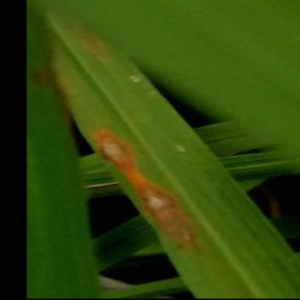Brown_Spot: (124, 176, 208, 250), (89, 116, 137, 171)
